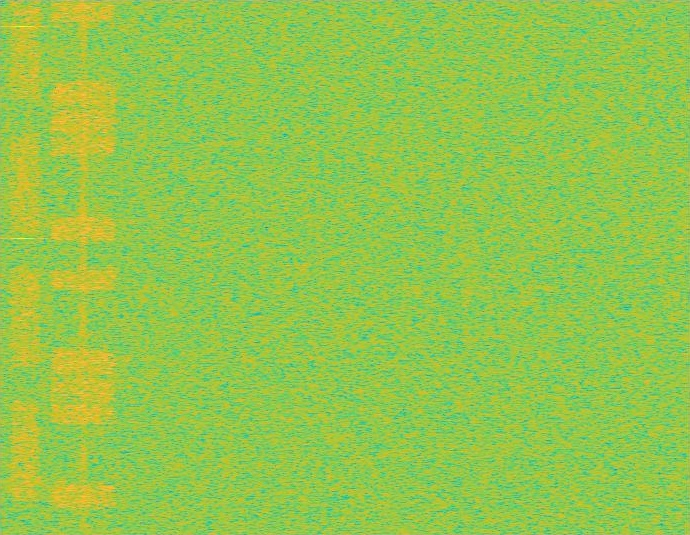5G: (8, 0, 43, 534)
DSSS: (79, 0, 88, 534)
LTE: (49, 0, 118, 534)
Radar: (16, 0, 30, 534)
